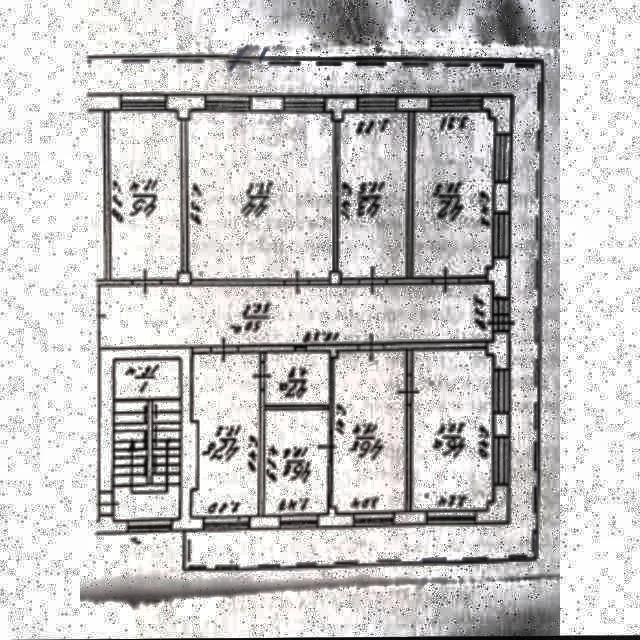room: (186, 111, 332, 279), (101, 285, 492, 344), (413, 113, 494, 276), (414, 350, 492, 511), (111, 116, 182, 280), (336, 352, 407, 511), (112, 360, 182, 521), (339, 115, 406, 277), (191, 354, 258, 516), (264, 411, 326, 515), (264, 356, 329, 403)
